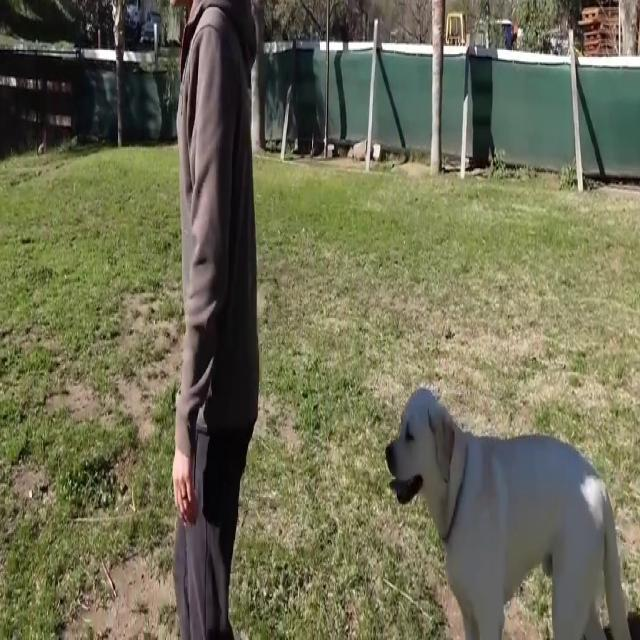Unleashed_Dog: (197, 387, 633, 640)
